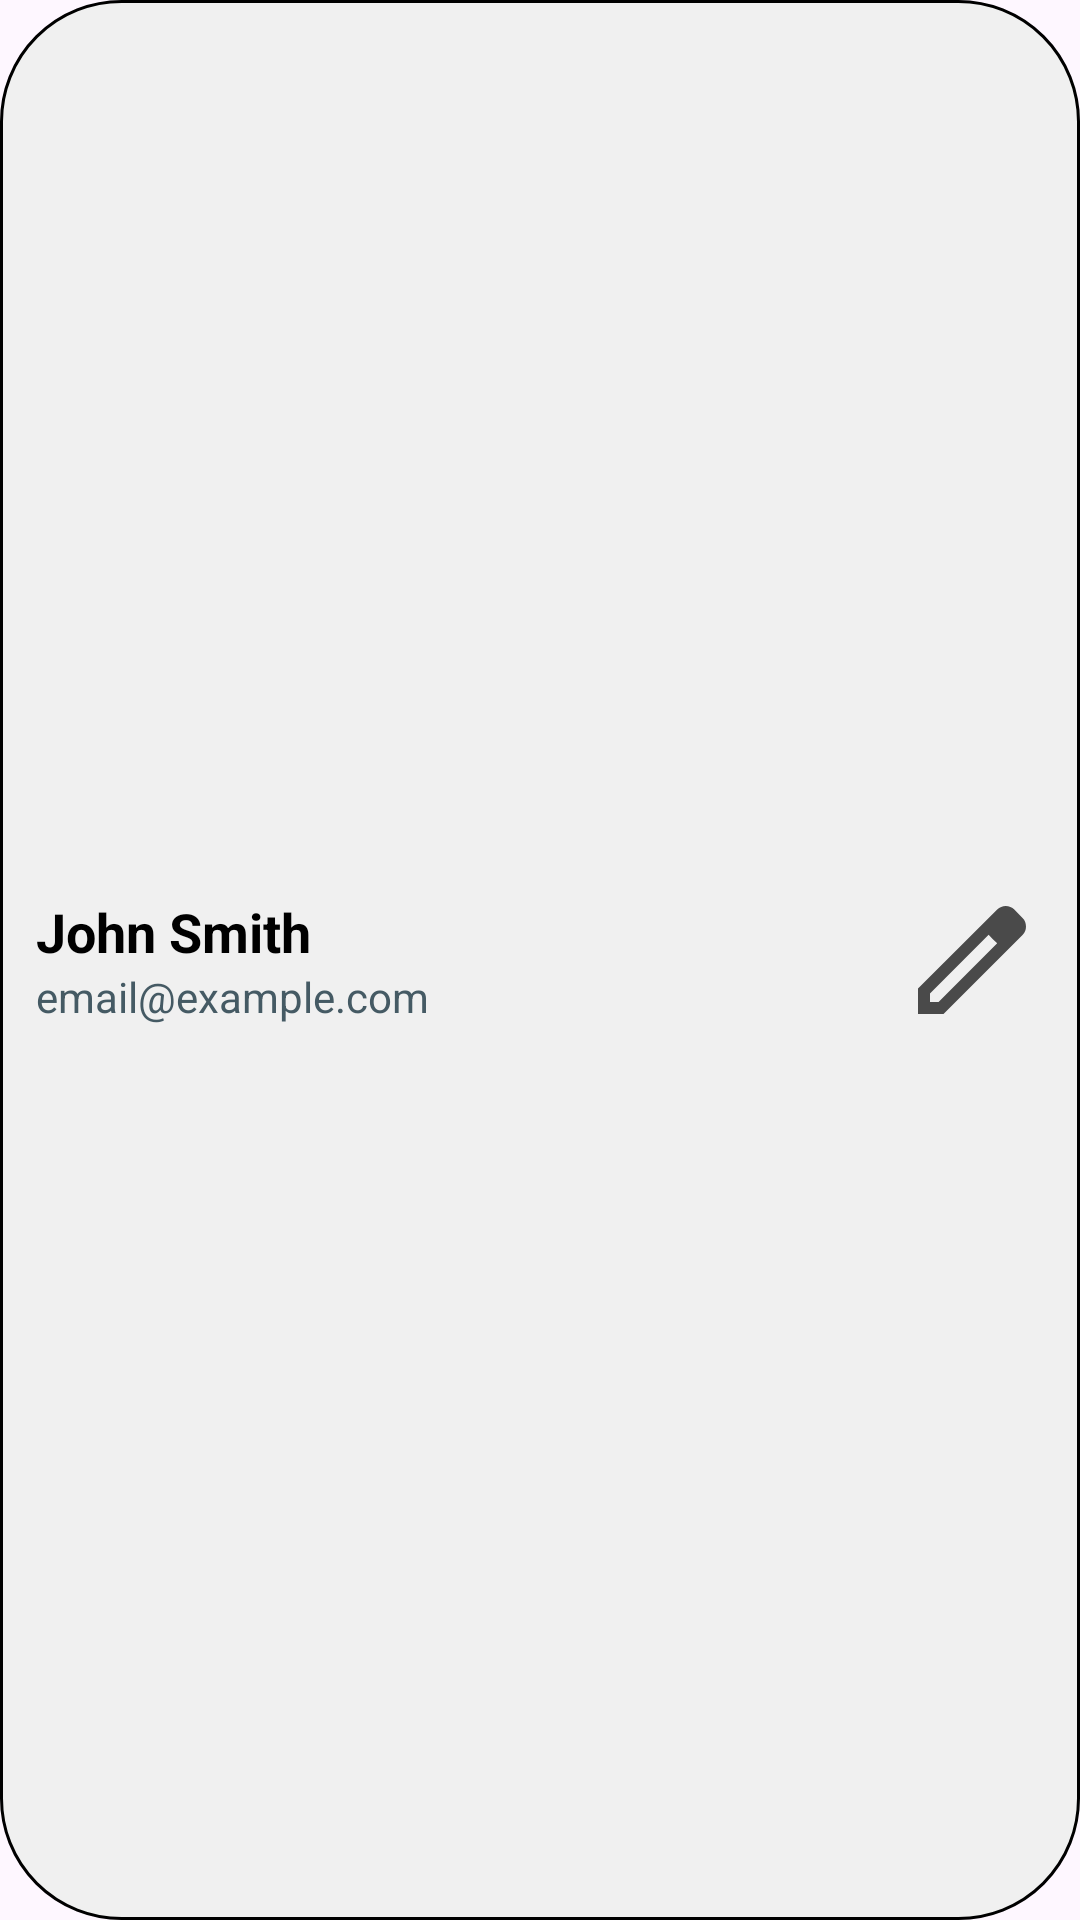

Named icons in this screenshot (1080*1920) and their centers, [x,y]:
edit member icon: [972,960]
